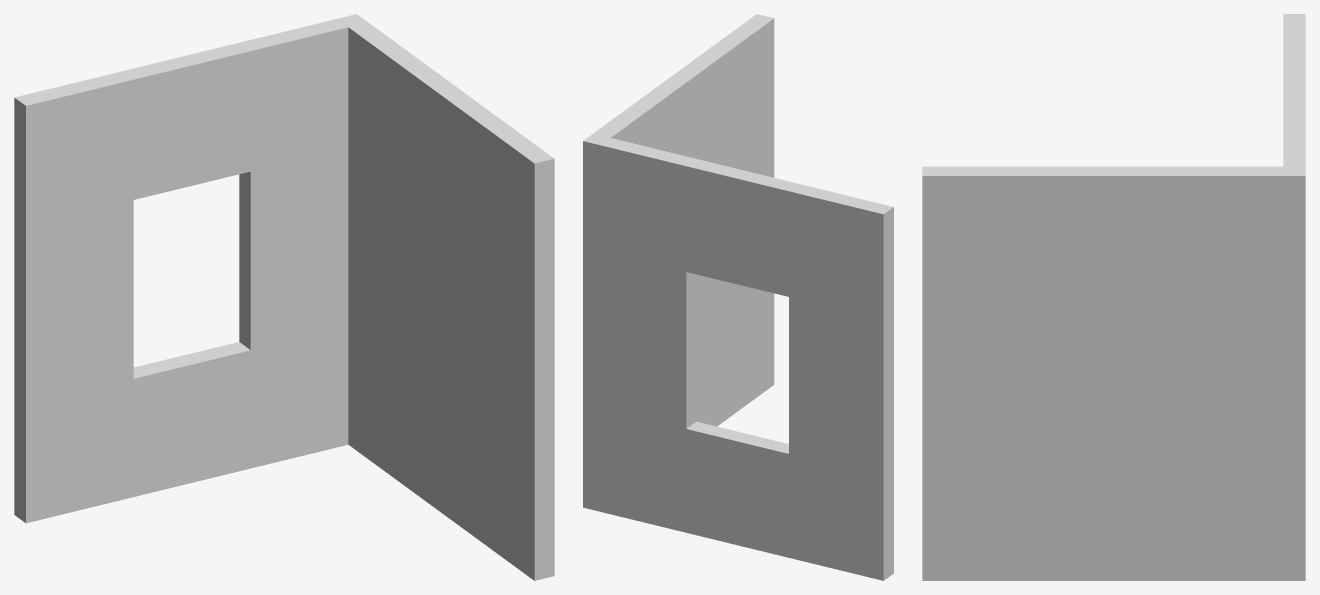
The model's file is Wall1_C1_07.fbx.
The picture shows the model from 3 angles, left to right: view 1: azimuth 30°, elevation 25°; view 2: azimuth 150°, elevation 25°; view 3: azimuth 270°, elevation 25°; orthographic projection. The views are drawn at different scales.
Visible parts, largest first — view 1: Wall1_C1_07; view 2: Wall1_C1_07; view 3: Wall1_C1_07.
Part boxes in pixels (x1,y1,x2,y2): Wall1_C1_07: (14, 14, 554, 580); Wall1_C1_07: (583, 14, 893, 580); Wall1_C1_07: (922, 14, 1305, 580).
Size of the model in its own units: 258 by 300 by 258.
